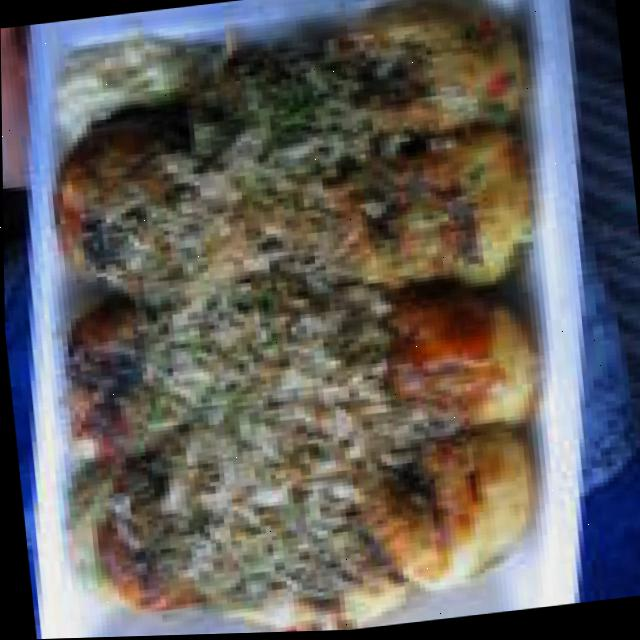炸货点心: (3, 0, 567, 640)
